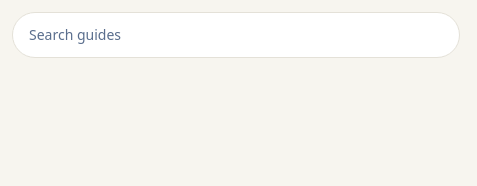
it: ResourceSearch with expanded fields › matches article type
This screenshot has width=477, height=186.
In the search field named "Search Resource Center": [236, 35] box left=12, top=12, right=460, bottom=58, type "preparation"
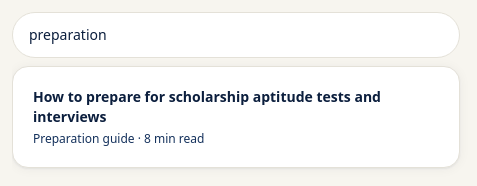
Now the link "aptitude tests" is shown, box left=33, top=87, right=381, bottom=147
